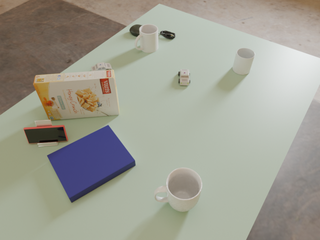book: (47, 125, 135, 203)
box: (33, 70, 119, 120)
cup: (154, 168, 202, 212), (135, 24, 158, 53), (233, 48, 255, 75)
mouse: (130, 25, 142, 37)
phone: (24, 125, 68, 143)
toy_car: (178, 69, 190, 85), (91, 63, 113, 71)
